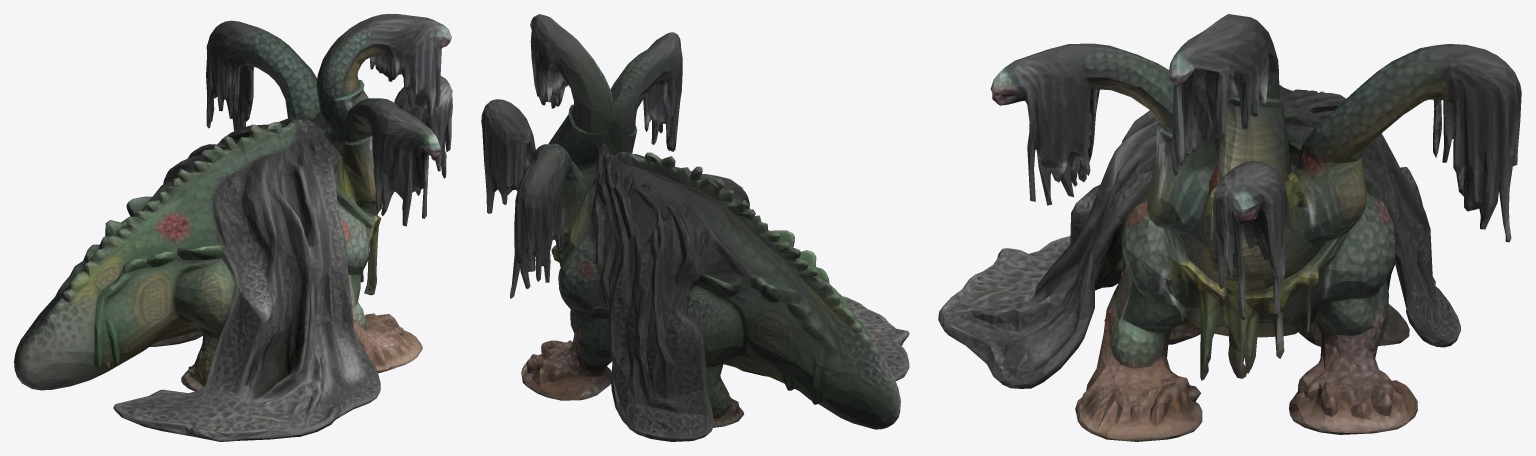
The model's file is mirequeen__dirgeLizard.glb.
The picture shows the model from 3 angles, left to right: view 1: azimuth 30°, elevation 25°; view 2: azimuth 150°, elevation 25°; view 3: azimuth 270°, elevation 25°; orthographic projection. The views are drawn at different scales.
Parts seen in each view (by area): view 1: world; view 2: world; view 3: world.
Boxes of the visible parts, x1=… form: world: x1=14, y1=14, x2=452, y2=441; world: x1=481, y1=14, x2=909, y2=441; world: x1=938, y1=14, x2=1521, y2=441.
Size of the model in its own units: 0.9766 by 0.671 by 0.8247.
Materials: 1 (1 with a texture image).
